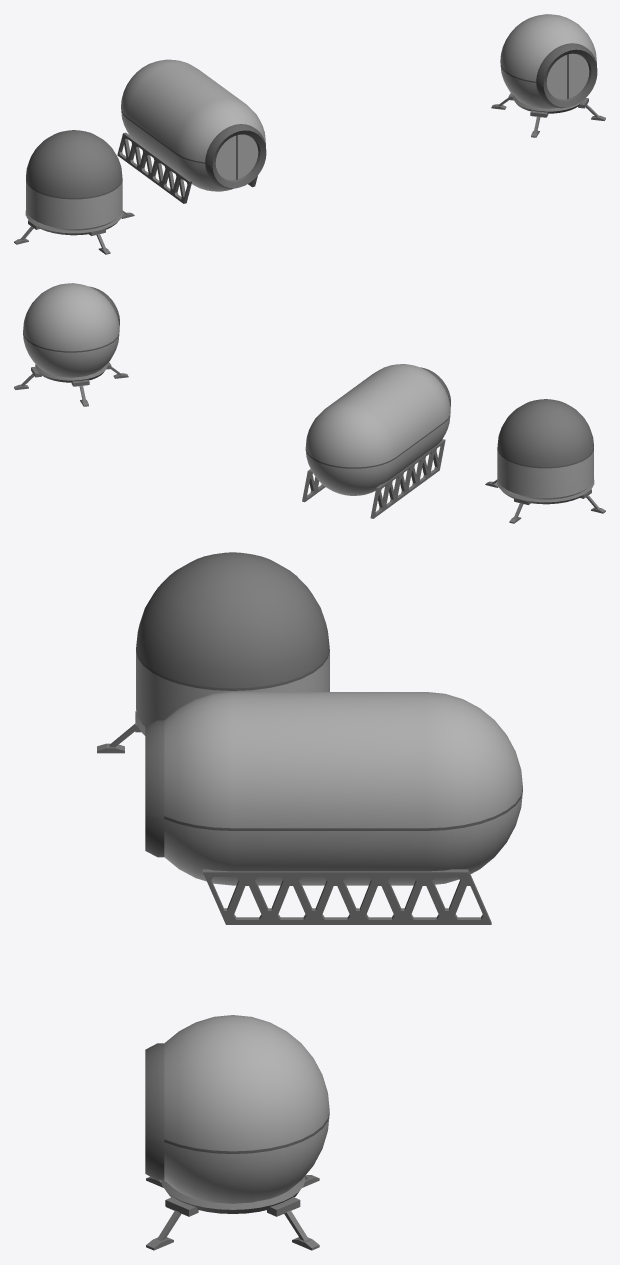
The model's file is house_pod.glb.
3 renders of one model, top to bottom at view 1: azimuth 30°, elevation 25°; view 2: azimuth 150°, elevation 25°; view 3: azimuth 270°, elevation 25°, orthographic. The views are drawn at different scales.
Visible parts, largest first — view 1: House_Long, House_Cylinder, House_Single_Support; view 2: House_Long, House_Cylinder, House_Single_Support; view 3: House_Long, House_Single_Support, House_Cylinder.
Boxes of the visible parts, left/top/right/bottom form: House_Long: left=117, top=59, right=266, bottom=203; House_Cylinder: left=14, top=130, right=134, bottom=254; House_Single_Support: left=491, top=14, right=605, bottom=137; House_Long: left=302, top=364, right=450, bottom=518; House_Cylinder: left=485, top=399, right=605, bottom=523; House_Single_Support: left=14, top=283, right=128, bottom=406; House_Long: left=145, top=692, right=522, bottom=924; House_Single_Support: left=145, top=1015, right=329, bottom=1250; House_Cylinder: left=97, top=552, right=329, bottom=753.
Size of the model in its own units: 27.4 by 4.32 by 8.79.
Materials: 1 (1 with a texture image).
